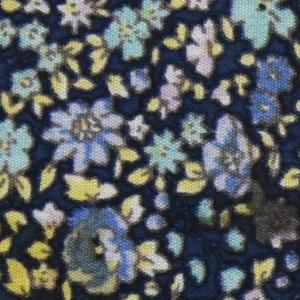Stain: (1, 212, 160, 300), (189, 178, 300, 251)
